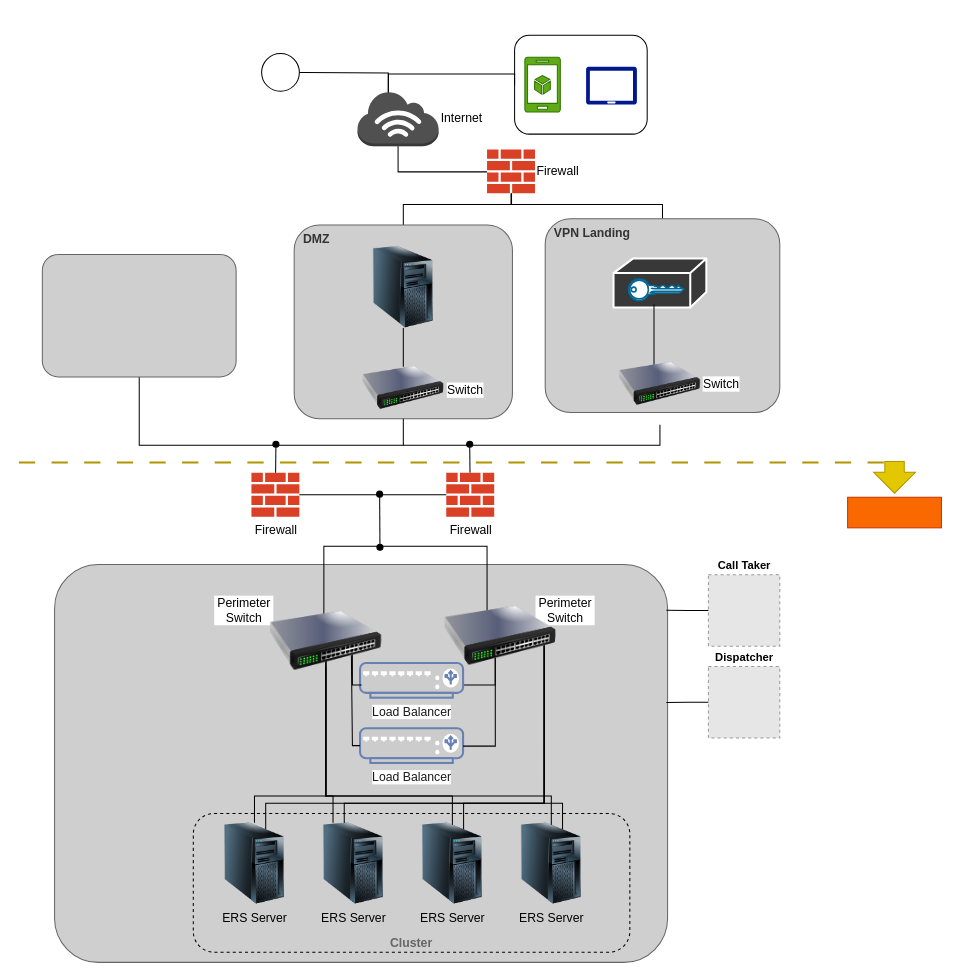
Some shapes in this 959 by 980 pixel diagram are drawn without their labels. Grey dashed boxes stand in for pictures. Each missing label, with the box of its shape:
AGIL ERS Servers Zone: (54, 564, 668, 962)
AVL Backend: (362, 246, 444, 327)
AVL Unit: (261, 53, 299, 91)
CMS Zone: (41, 253, 236, 377)
Mobile Responder: (514, 34, 647, 134)
ST Engineering ERS Solution: (847, 496, 941, 528)
VPN Gateway: (612, 257, 707, 308)
